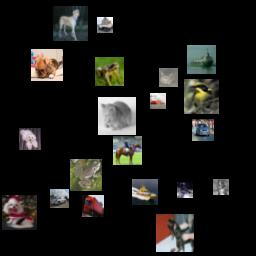automobile: (192, 119, 214, 141), (50, 189, 69, 208)
bird: (184, 79, 219, 114)
cat: (98, 97, 136, 135), (156, 214, 194, 252), (159, 68, 178, 87)
deer: (177, 182, 193, 198)
dog: (2, 195, 37, 230), (53, 6, 88, 41), (31, 49, 63, 81), (19, 128, 41, 150), (213, 179, 229, 195)
frog: (70, 159, 102, 191), (95, 57, 124, 86)
ship: (187, 45, 216, 74), (132, 179, 158, 205), (150, 93, 166, 109)
truck: (82, 195, 104, 217), (97, 17, 113, 33)
